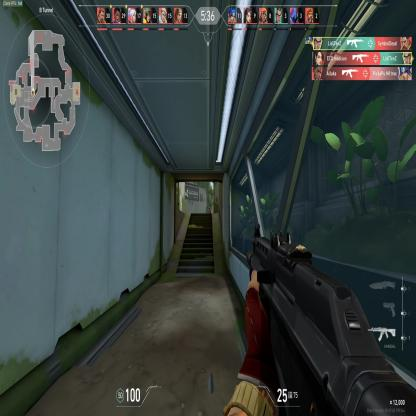enemy: (208, 206, 211, 214)
